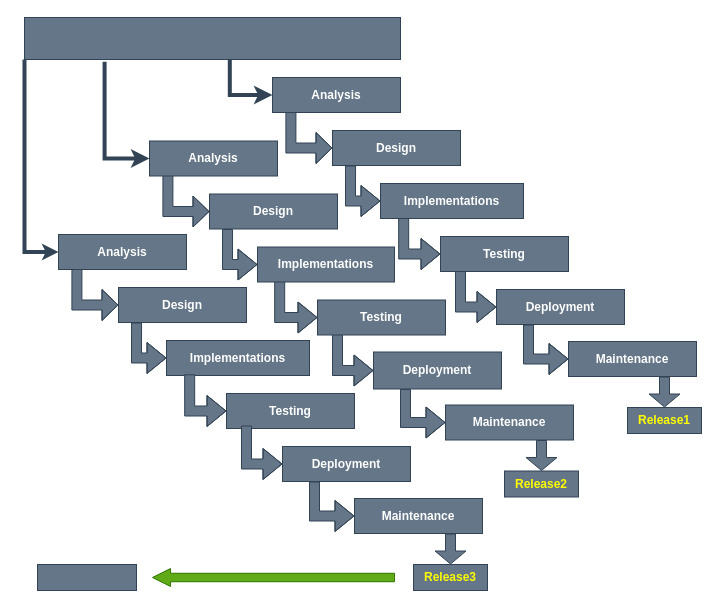
The diagram is 719 pixels wide and 608 high, and some of its shapes have lost their labels. Each missing label, with the centre of its shape:
"Release n" belongs at (x=86, y=577).
"Requirements" belongs at (x=212, y=38).
